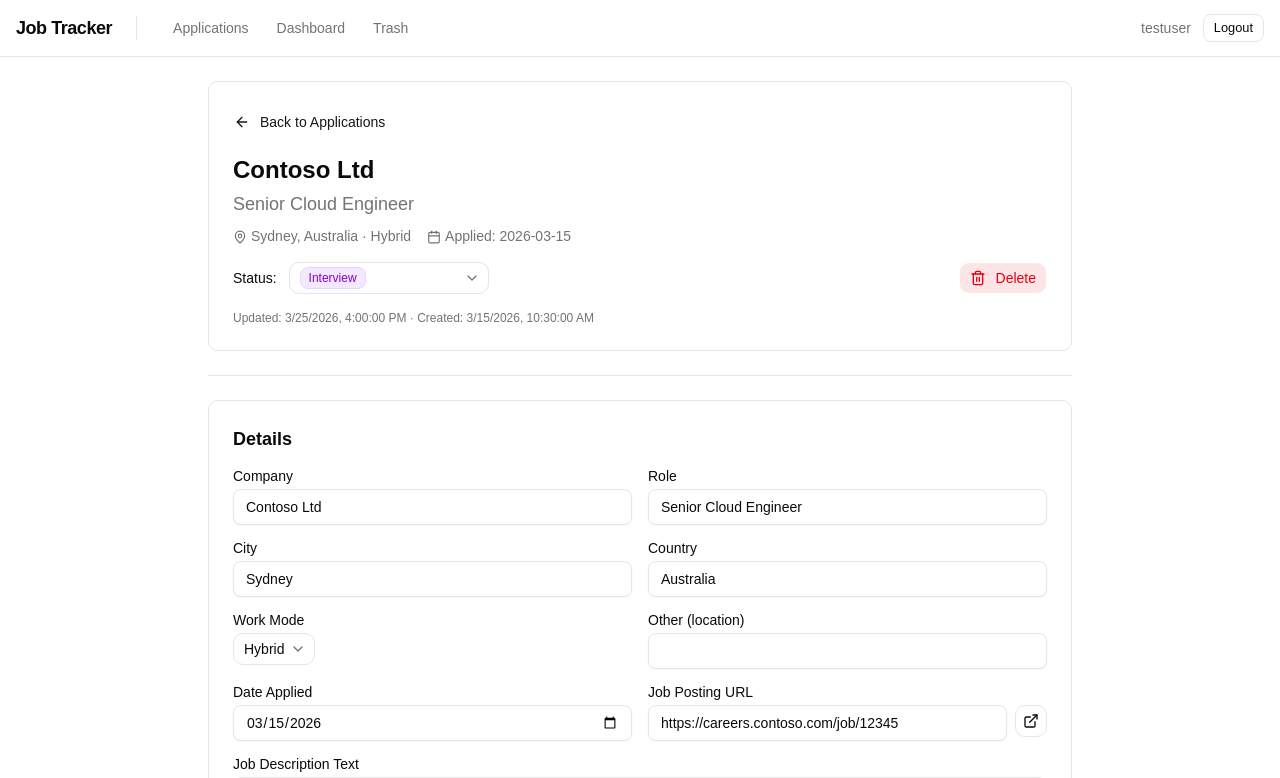
ApplicationDetailPage › opens rejection reason dialog when selecting Rejected status
Expected: the heading "Contoso Ltd" is shown, [233, 156, 374, 183]
# Open the status dropdown
Click the dropdown named "status".
click(389, 278)  # box [289, 262, 489, 294]
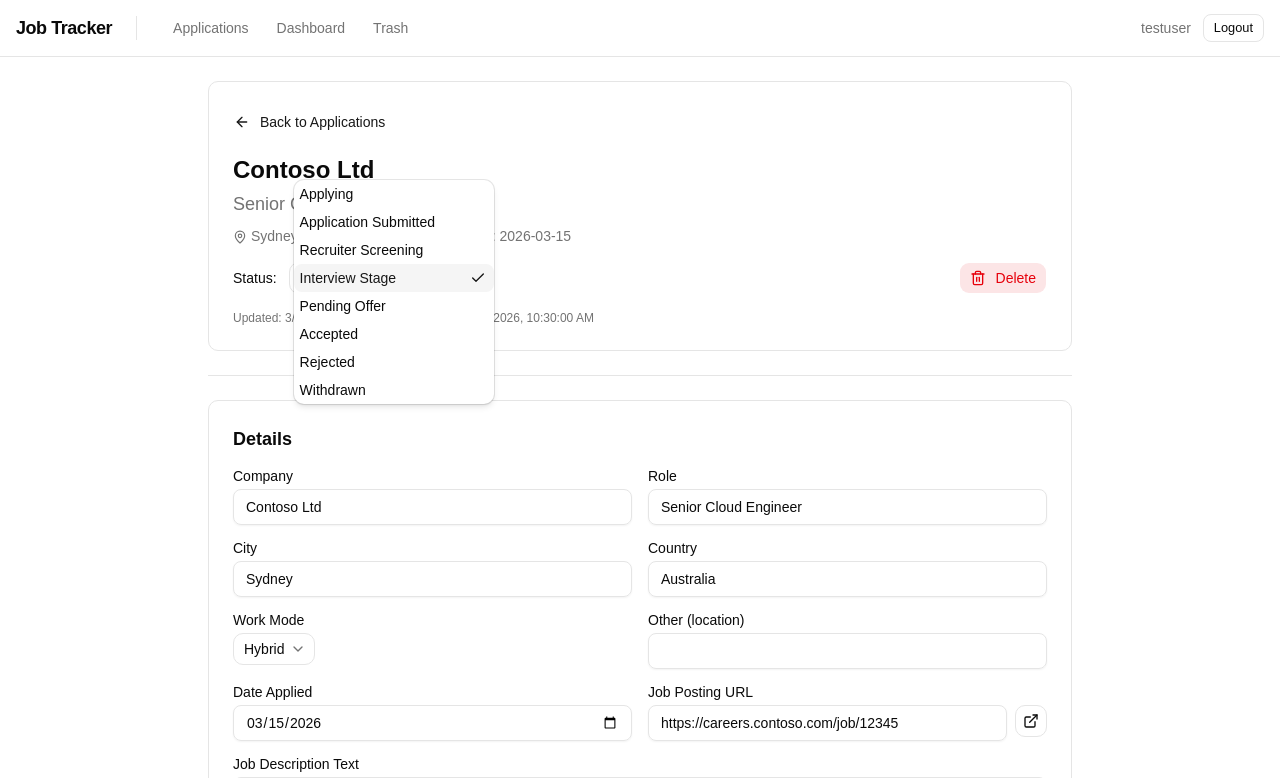
# Select "Rejected"
Click the option "Rejected".
click(327, 362)  # box [300, 354, 355, 370]
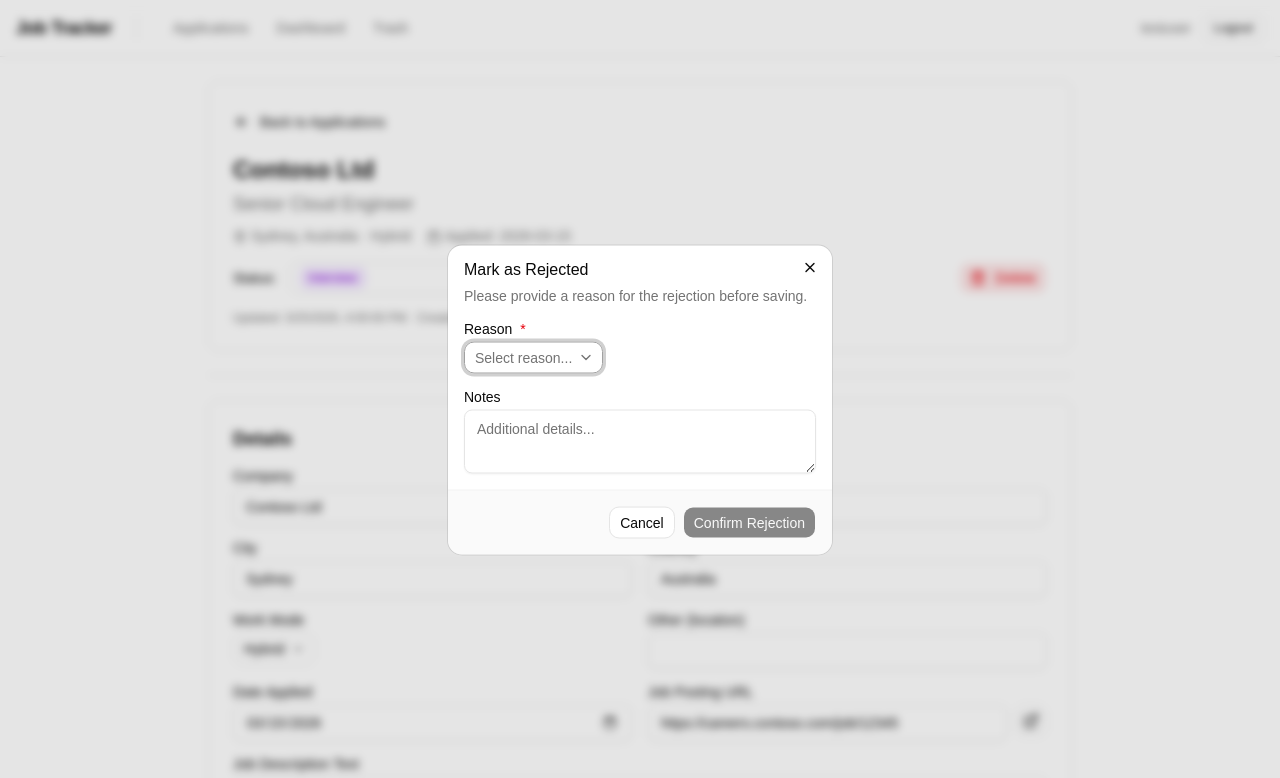
Expected: the dialog is shown, [448, 246, 832, 554]
Expected: the heading "Mark as Rejected" is shown, [464, 260, 588, 278]
Expected: the dropdown labelled "Select reason... ▼" is shown, [464, 342, 603, 374]
